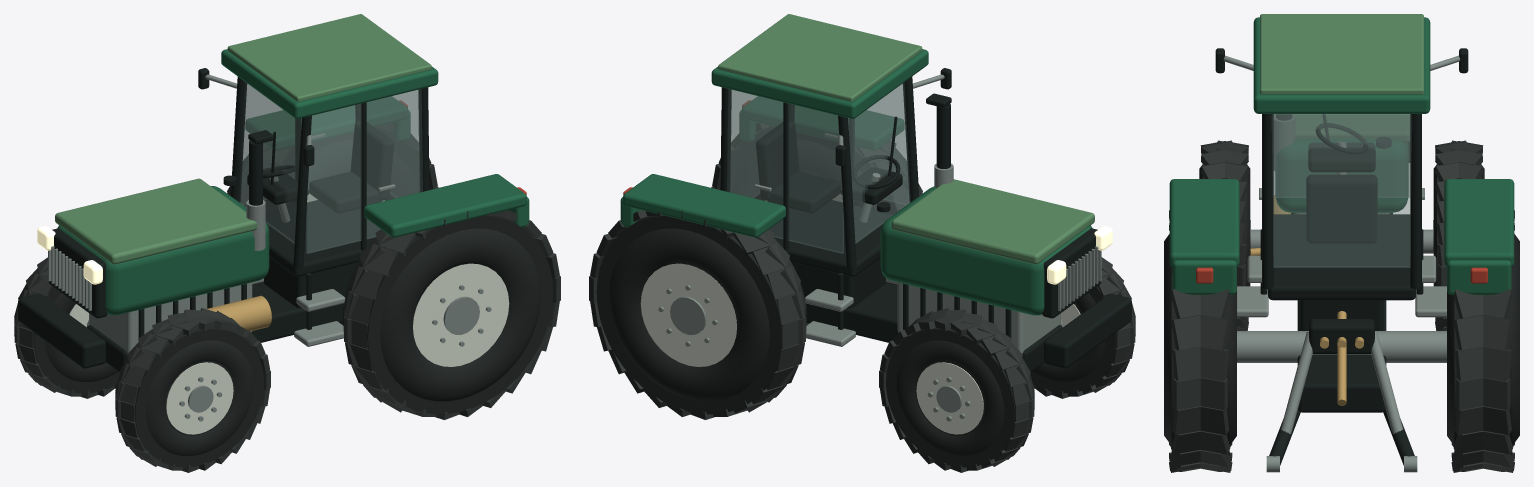
The model's file is tractor-detailed-v1.glb.
3 views of the same model, side by side, from view 1: azimuth 30°, elevation 25°; view 2: azimuth 150°, elevation 25°; view 3: azimuth 270°, elevation 25° (orthographic). The views are drawn at different scales.
Visible parts, largest first — view 1: wheels-rubber, cab-glass, body-green, wheels-tread, cab-black, cab-lightGreen, body-lightGreen, wheels-hub, body-black, drivetrain-black, cab-green, engine-steel (+7 smaller); view 2: wheels-rubber, cab-glass, body-green, wheels-tread, cab-black, cab-lightGreen, body-lightGreen, wheels-hub, drivetrain-black, body-black, cab-green, engine-steel (+6 smaller); view 3: wheels-tread, cab-glass, cab-black, body-green, cab-lightGreen, wheels-rubber, drivetrain-black, drivetrain-steel, cab-green, hydraulics-black, hydraulics-steel, body-steel (+7 smaller).
Boxes of the visible parts, <box> form: wheels-rubber: <box>33,127,553,467</box>; cab-glass: <box>239,83,422,253</box>; body-green: <box>57,96,529,315</box>; wheels-tread: <box>14,123,560,472</box>; cab-black: <box>198,68,429,276</box>; cab-lightGreen: <box>227,14,431,101</box>; body-lightGreen: <box>55,178,257,264</box>; wheels-hub: <box>69,193,509,434</box>; body-black: <box>18,175,311,368</box>; drivetrain-black: <box>87,257,358,371</box>; cab-green: <box>221,49,438,118</box>; engine-steel: <box>89,200,265,353</box>; wheels-rubber: <box>596,127,1116,467</box>; cab-glass: <box>727,83,910,253</box>; body-green: <box>620,96,1092,315</box>; wheels-tread: <box>589,123,1135,472</box>; cab-black: <box>720,68,951,276</box>; cab-lightGreen: <box>718,14,922,101</box>; body-lightGreen: <box>891,179,1094,264</box>; wheels-hub: <box>640,193,1080,434</box>; drivetrain-black: <box>791,257,1062,371</box>; body-black: <box>838,202,1131,368</box>; cab-green: <box>711,49,928,118</box>; engine-steel: <box>897,163,1060,353</box>; wheels-tread: <box>1169,140,1514,472</box>; cab-glass: <box>1272,114,1411,267</box>; cab-black: <box>1215,48,1468,300</box>; body-green: <box>1169,139,1514,294</box>; cab-lightGreen: <box>1260,14,1423,94</box>; wheels-rubber: <box>1164,163,1519,455</box>; drivetrain-black: <box>1297,300,1386,412</box>; drivetrain-steel: <box>1237,229,1446,362</box>; cab-green: <box>1253,17,1430,113</box>; hydraulics-black: <box>1269,319,1414,465</box>; hydraulics-steel: <box>1266,332,1417,472</box>; body-steel: <box>1237,255,1446,317</box>.
Size of the model in its own units: 4.55 by 3.09 by 2.64.
